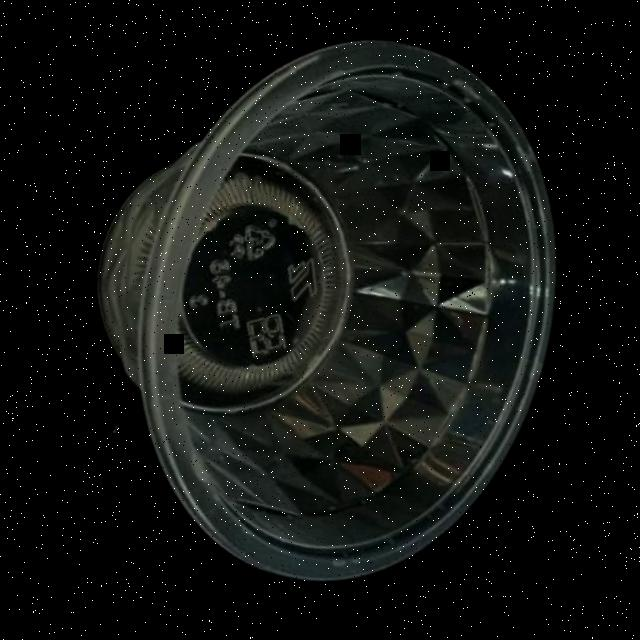plastic_box: (37, 0, 609, 624)
